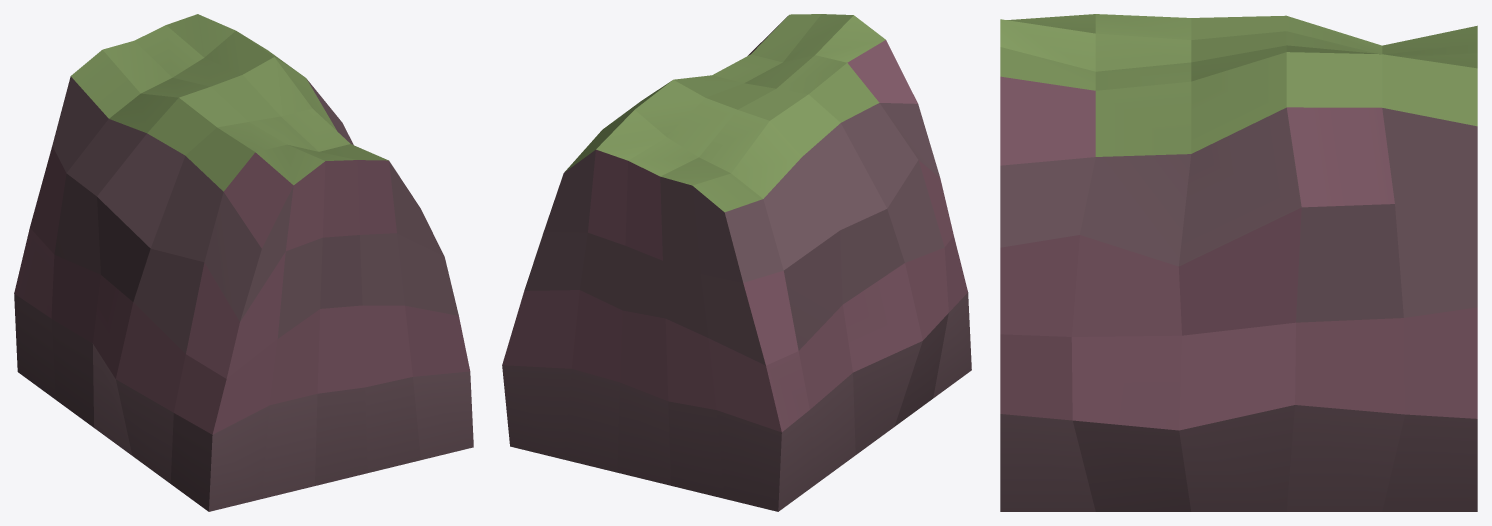
The model's file is roca_recta_2.glb.
The picture shows the model from 3 angles, left to right: view 1: azimuth 30°, elevation 25°; view 2: azimuth 150°, elevation 25°; view 3: azimuth 270°, elevation 25°; orthographic projection. The views are drawn at different scales.
Visible parts, largest first — view 1: propforge-cuartos-roca_recta; view 2: propforge-cuartos-roca_recta; view 3: propforge-cuartos-roca_recta.
Boxes of the visible parts, <box> form: propforge-cuartos-roca_recta: <box>14,14,473,511</box>; propforge-cuartos-roca_recta: <box>502,14,971,511</box>; propforge-cuartos-roca_recta: <box>1000,14,1477,511</box>.
Size of the model in its own units: 0.9189 by 0.9438 by 1.
